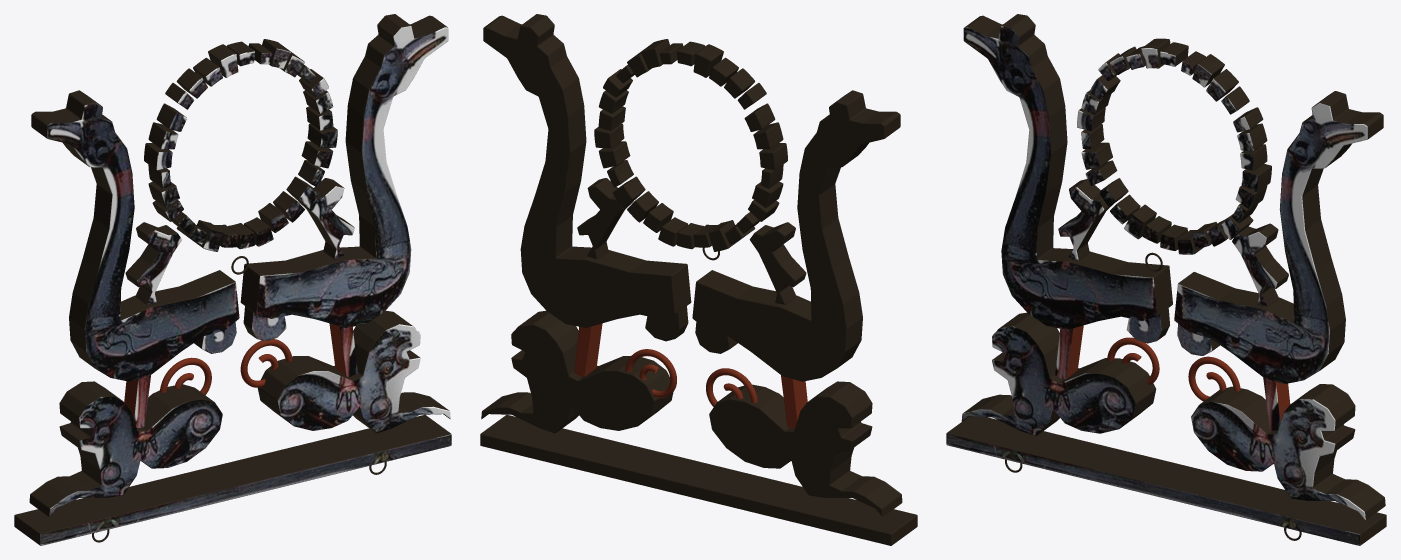
The picture shows the model from 3 angles, left to right: view 1: azimuth 30°, elevation 25°; view 2: azimuth 150°, elevation 25°; view 3: azimuth 330°, elevation 25°; orthographic projection.
Parts seen in each view (by area): view 1: WEB_A05; view 2: WEB_A05; view 3: WEB_A05.
Boxes of the visible parts, x1,y1,x2,y2 form: WEB_A05: (14, 14, 451, 545); WEB_A05: (480, 14, 917, 545); WEB_A05: (946, 14, 1386, 545).
Bounding box in the file's own units: 1.35 × 1.41 × 0.15.
Materials: 3 (1 with a texture image).
